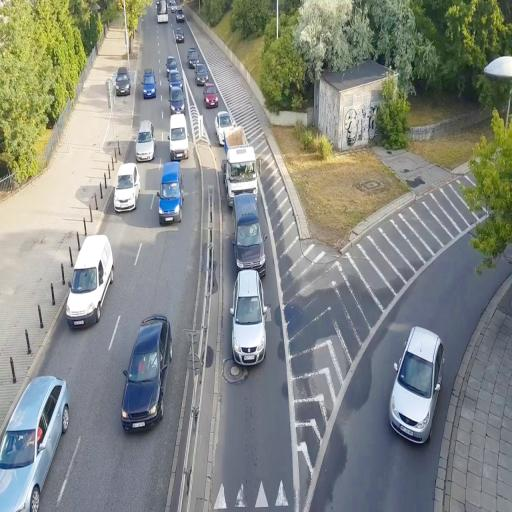vehicle: (0, 374, 70, 511), (388, 325, 444, 447), (121, 315, 172, 433), (66, 234, 114, 331), (231, 149, 266, 274), (231, 270, 267, 366), (232, 189, 266, 274), (224, 143, 258, 201), (157, 164, 183, 226), (114, 165, 139, 212), (169, 112, 189, 160), (136, 122, 155, 162), (166, 55, 183, 99), (216, 109, 236, 146), (114, 67, 131, 96), (142, 70, 157, 99), (203, 86, 219, 108), (196, 65, 208, 86), (187, 49, 199, 67), (174, 28, 186, 44)
